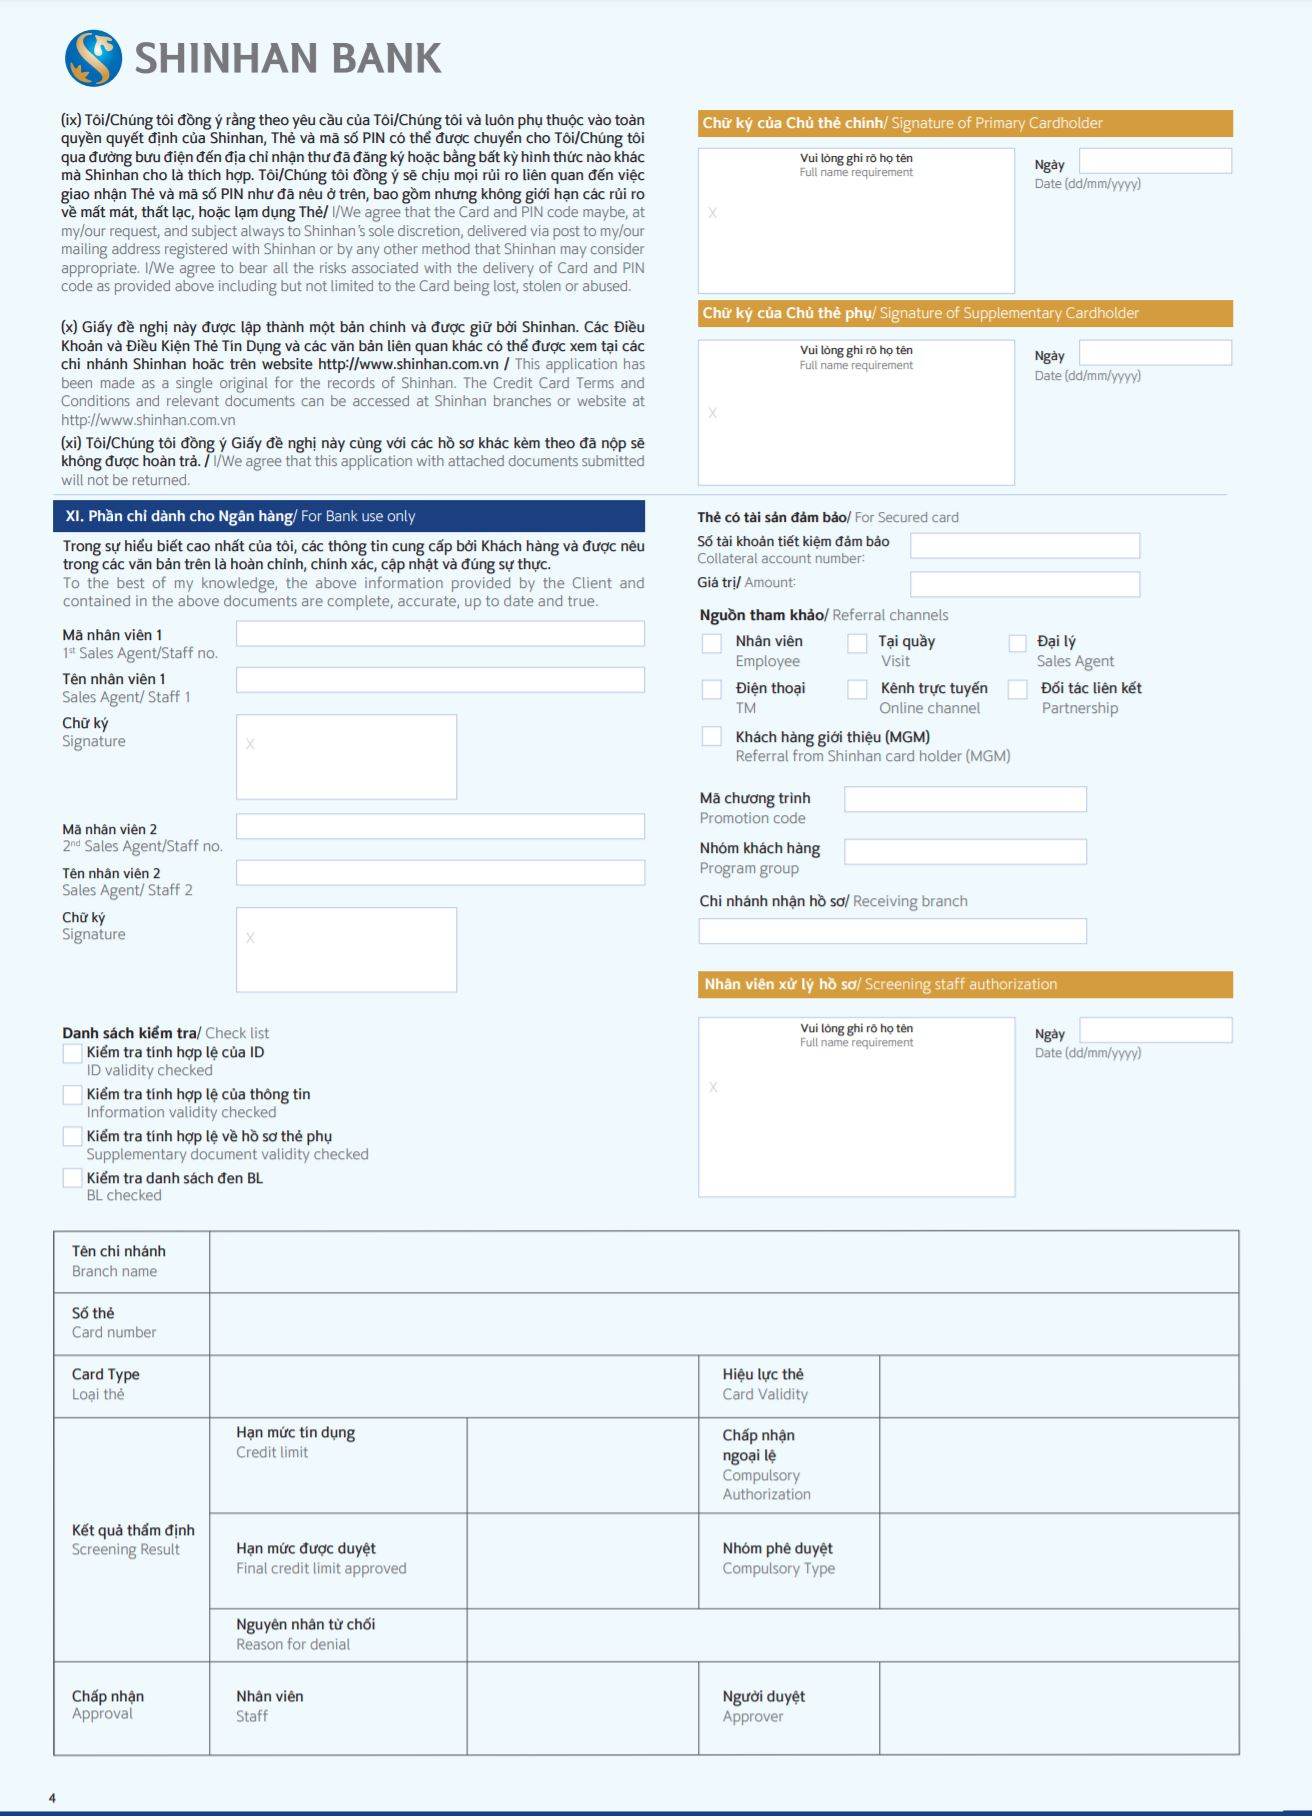box: (1003, 677, 1032, 704), (698, 723, 724, 751), (699, 675, 724, 704), (844, 630, 869, 657), (846, 675, 869, 704), (61, 1039, 85, 1067), (59, 1124, 87, 1148), (62, 1165, 86, 1191), (699, 632, 723, 656), (1006, 633, 1030, 657), (61, 1084, 85, 1108)
